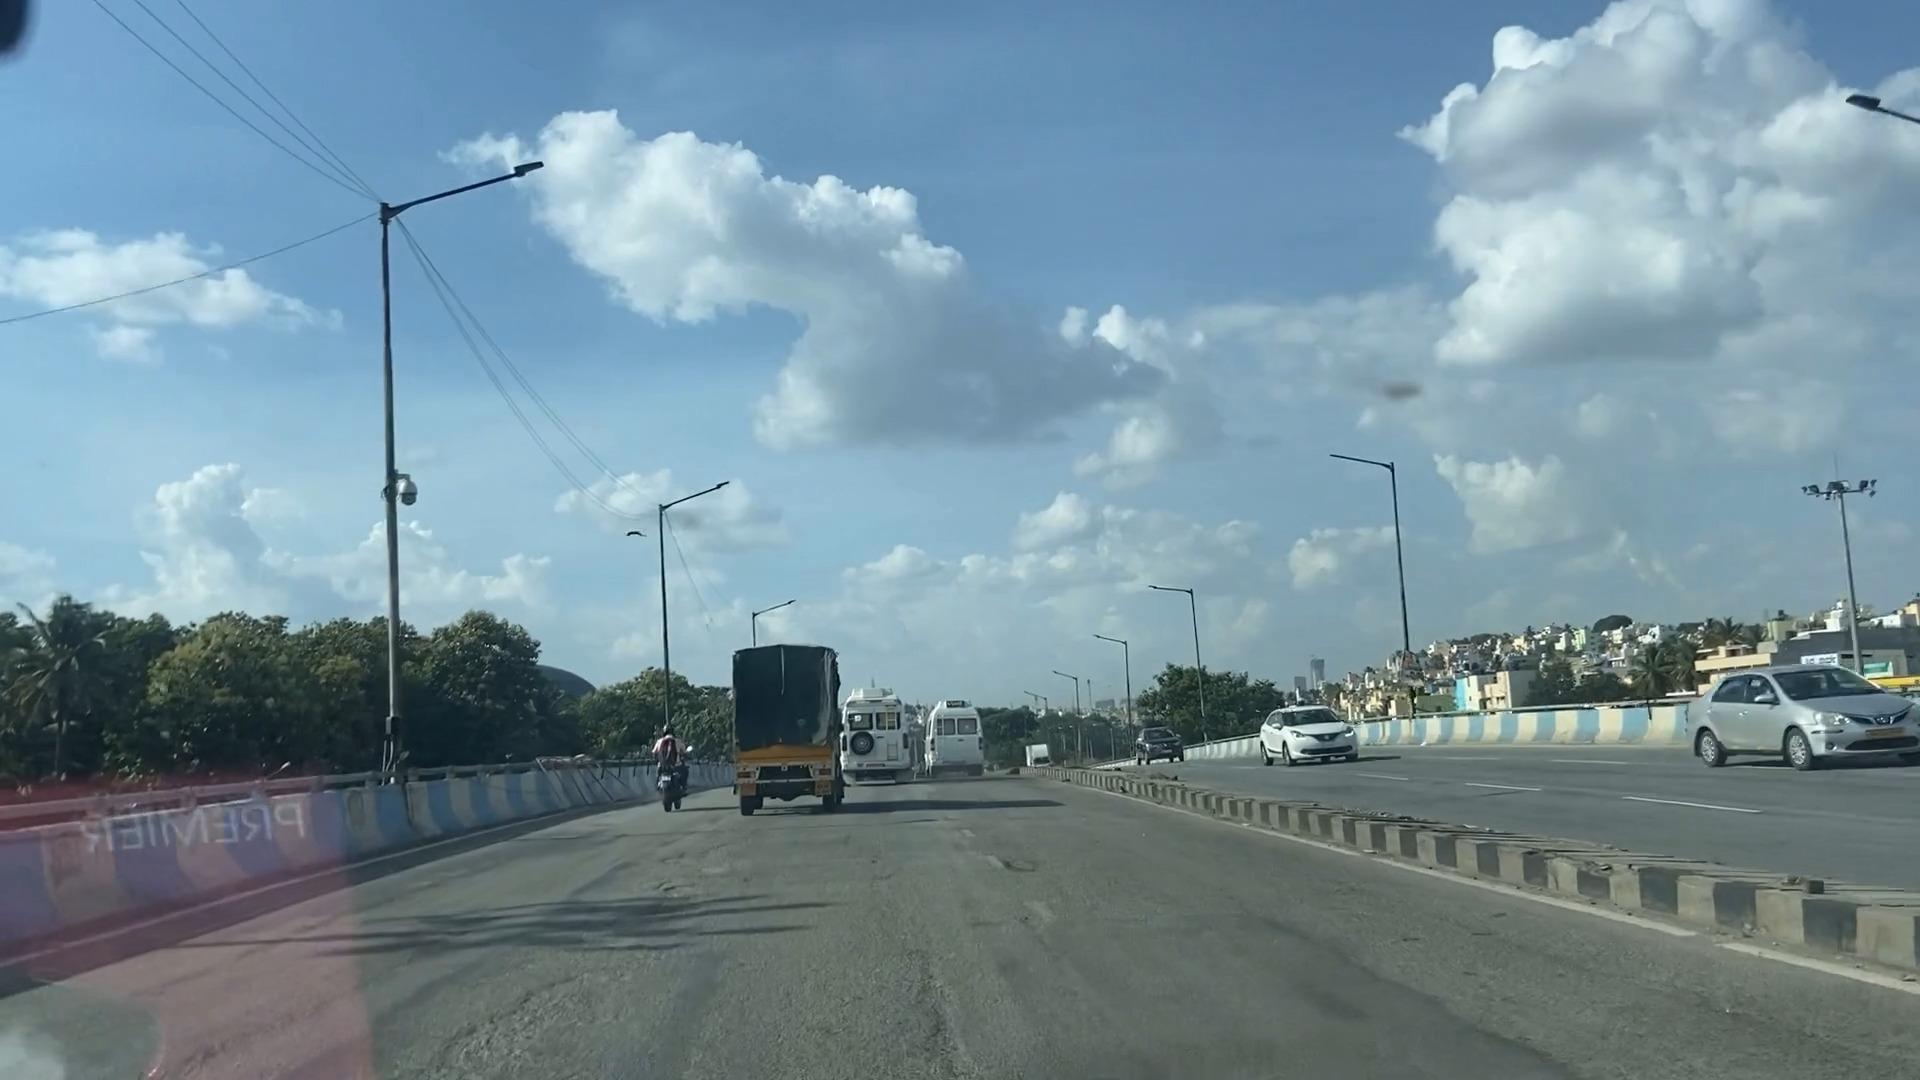HMV: (691, 646, 853, 836), (905, 695, 988, 783), (844, 695, 915, 793)
LMV: (642, 716, 713, 811)
RoadDamages: (1114, 894, 1526, 1062), (724, 898, 1014, 1077), (405, 909, 622, 1058), (196, 947, 376, 1080), (607, 819, 766, 936), (882, 832, 1081, 923)
